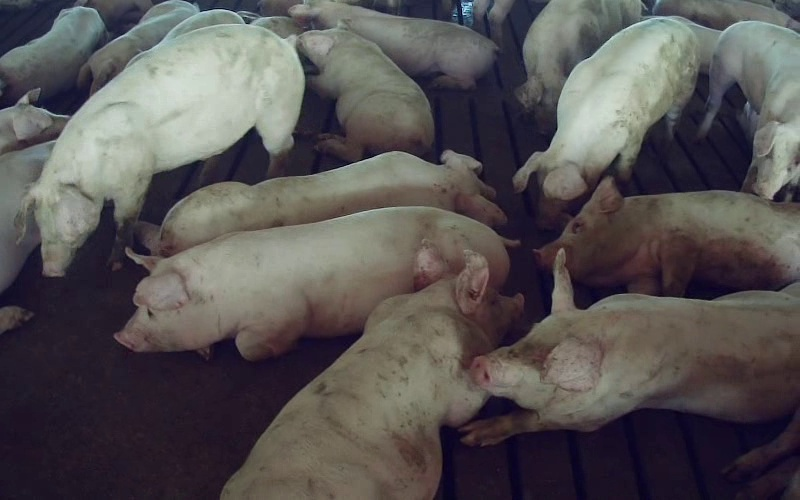pig: (463, 250, 799, 497), (222, 240, 523, 499), (16, 23, 304, 273), (114, 207, 516, 360), (136, 150, 505, 256), (513, 18, 699, 227), (534, 177, 799, 296), (289, 0, 497, 89), (296, 28, 433, 161), (698, 22, 799, 199), (77, 0, 198, 94), (0, 6, 105, 104)
